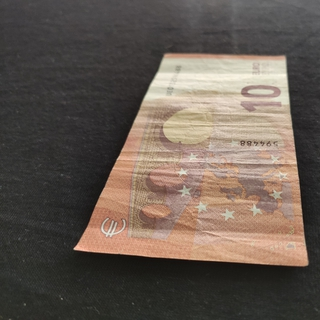10EUROBack: (73, 52, 310, 267)
